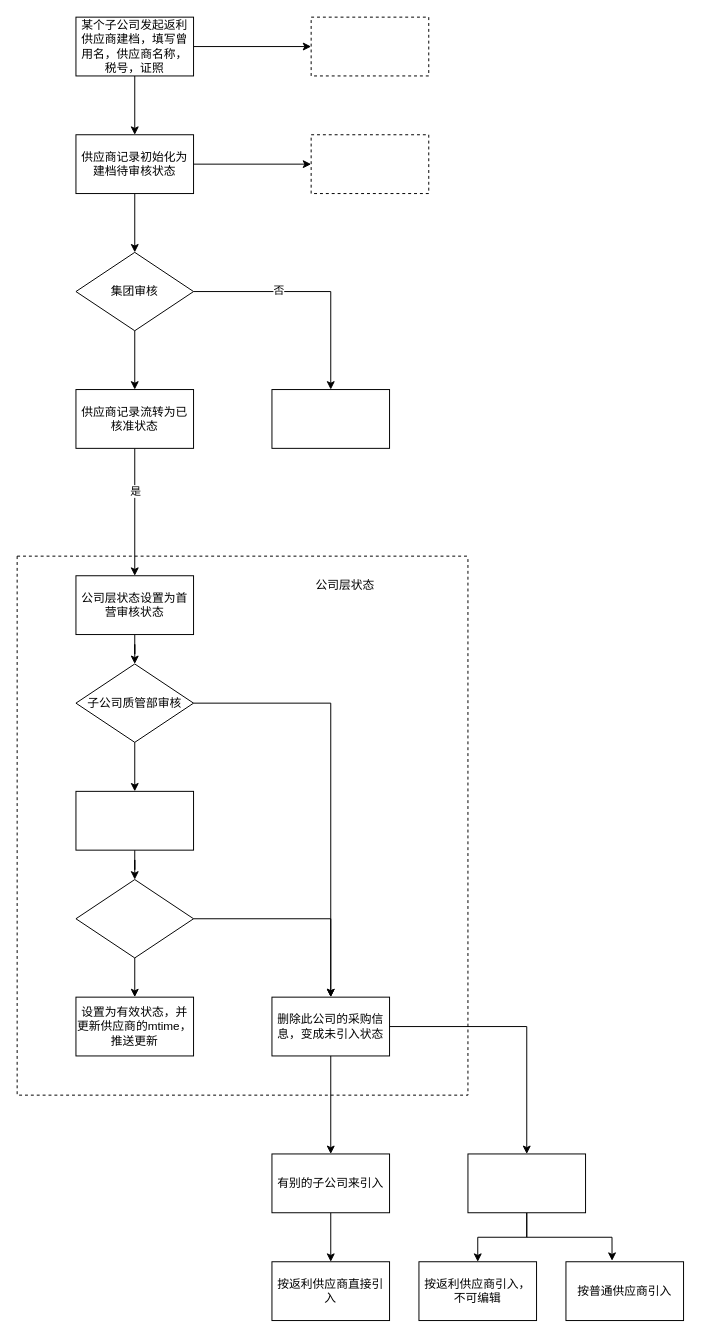
Image size: 701x1338. Some labels were removed from this diagram. The centre of each missing label's shape, as x and y in pixels:
供应商为已驳回状态: the point at 330,418
公司层状态初始化为待集团审核状态: the point at 369,164
其他账号编辑为普通供应商: the point at 526,1183
质量负责人审核: the point at 134,918
质量负责人审核状态: the point at 134,820
集团层标记为返利供应商: the point at 369,46
